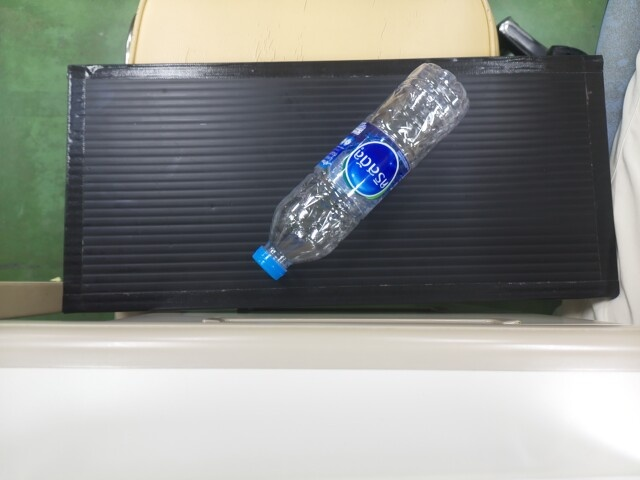plastic_bottle: (261, 66, 433, 277)
